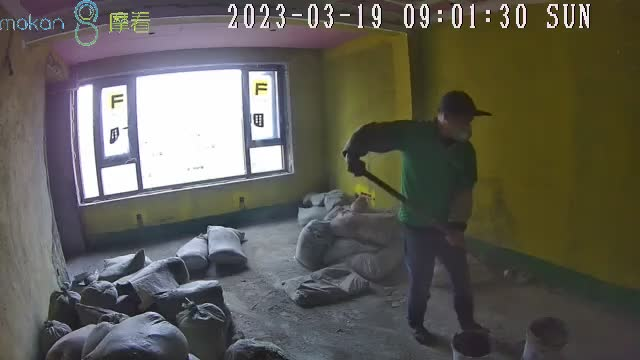people: (344, 90, 491, 344)
window: (70, 68, 285, 200)
